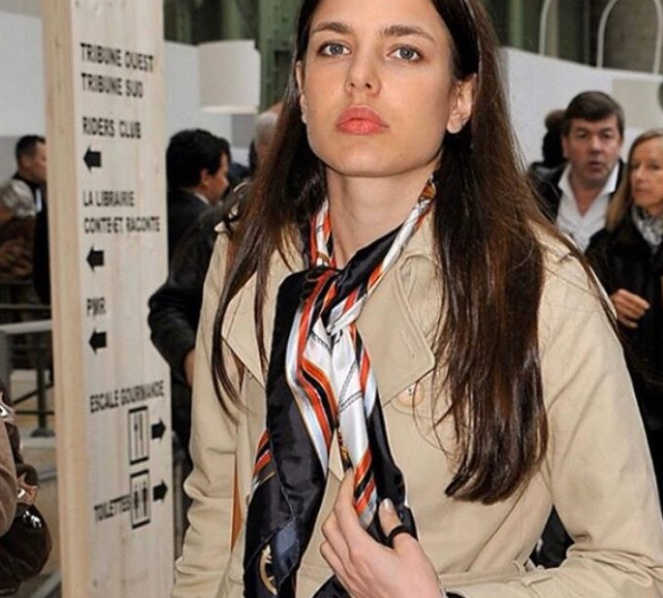mouth: (333, 104, 390, 136), (632, 184, 651, 196), (584, 160, 603, 170)
nose: (341, 74, 381, 94), (586, 143, 601, 153), (633, 172, 646, 181)
